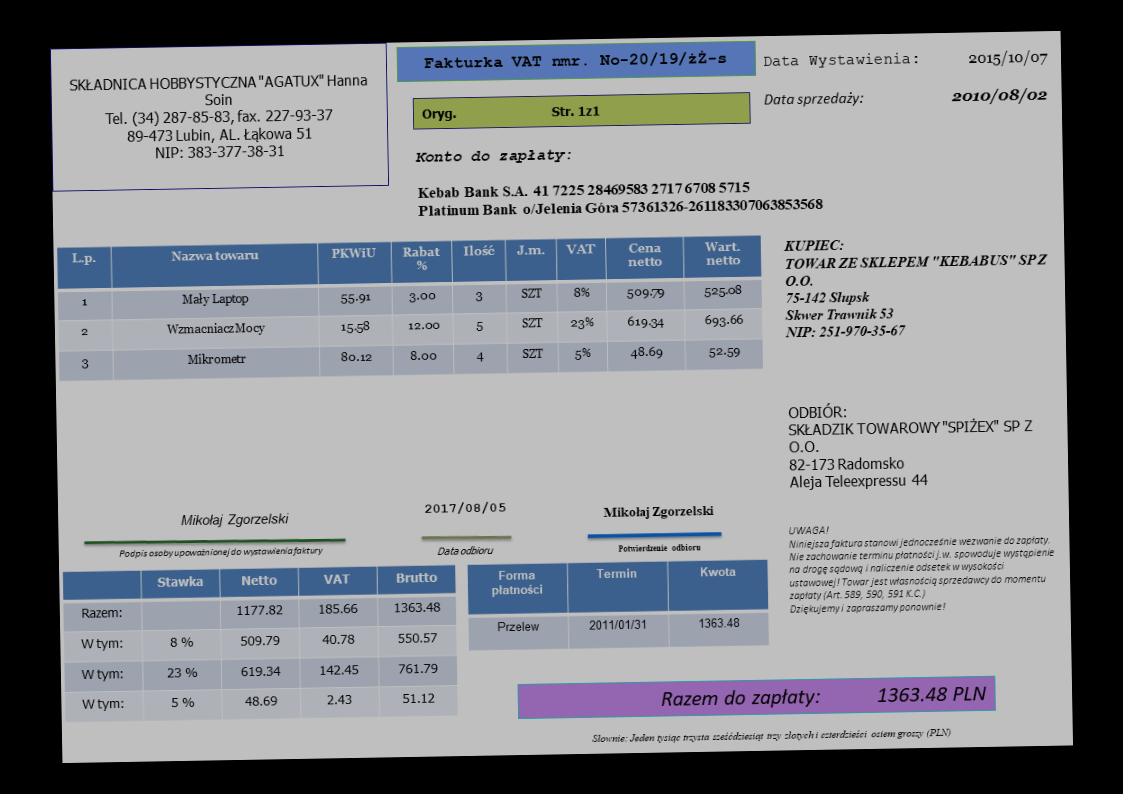Table: (55, 234, 765, 383), (60, 564, 460, 723), (465, 557, 771, 653)
TextBox: (781, 231, 1056, 343), (67, 70, 372, 166), (786, 520, 1056, 617), (785, 396, 1037, 495), (414, 176, 826, 220), (658, 681, 989, 712), (589, 724, 954, 747), (421, 48, 730, 73), (419, 101, 602, 125), (412, 145, 575, 167), (116, 543, 326, 560), (761, 50, 920, 72), (599, 501, 716, 522), (949, 85, 1049, 108), (179, 510, 293, 530), (761, 89, 865, 110), (421, 497, 507, 519), (965, 47, 1049, 69), (614, 540, 702, 555), (435, 543, 496, 559)
